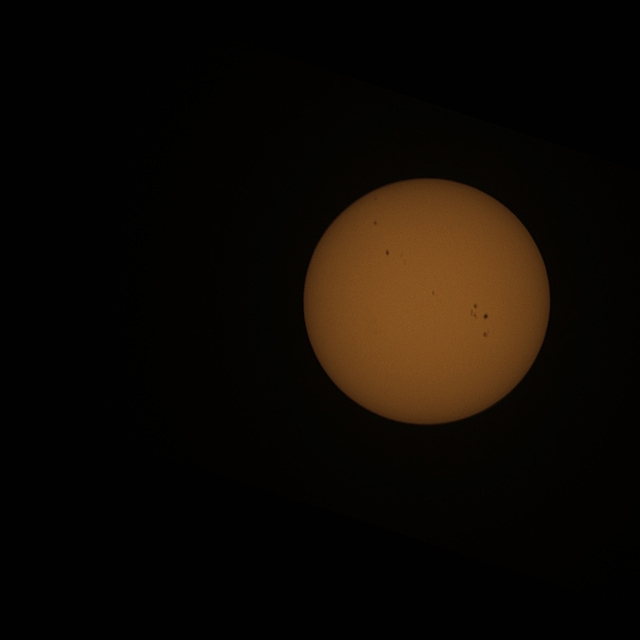sunspot: (470, 303, 479, 317), (399, 253, 406, 266), (482, 331, 489, 338), (472, 303, 478, 310), (399, 253, 405, 260), (483, 313, 489, 320), (385, 250, 390, 256), (432, 290, 436, 295), (373, 221, 377, 226)
